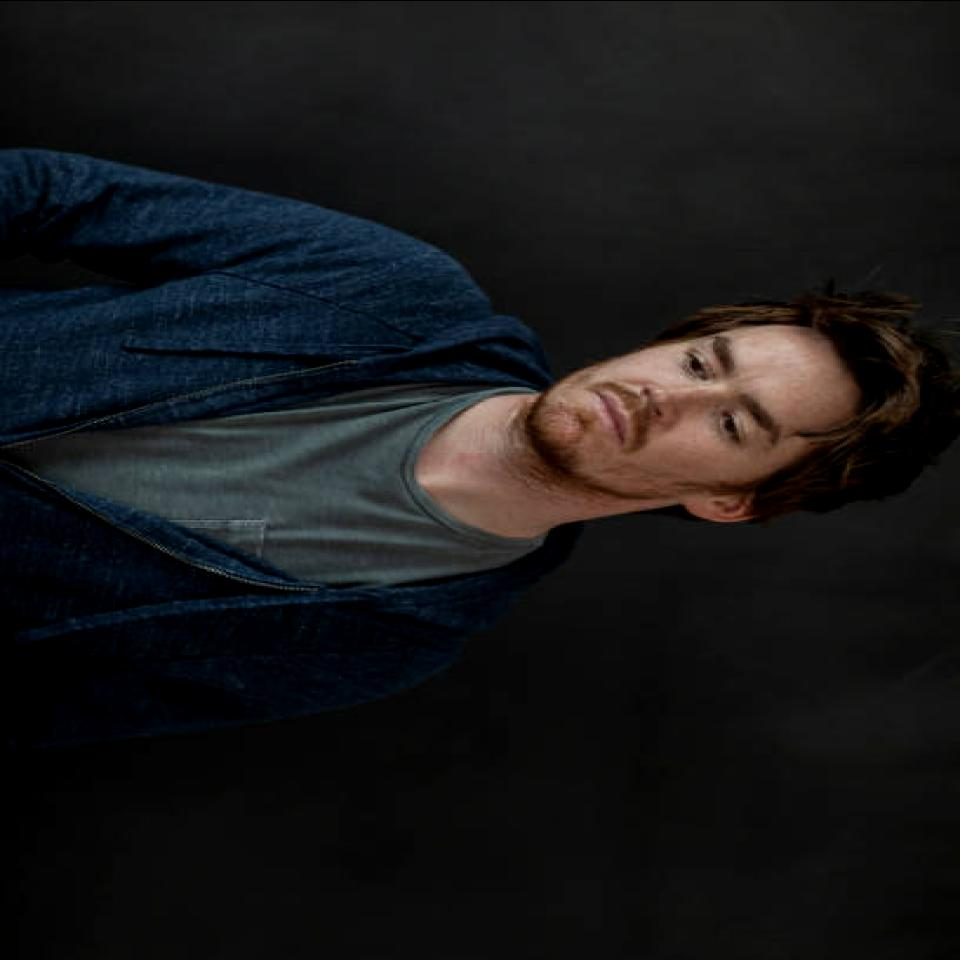Sadness: (520, 330, 786, 520)
